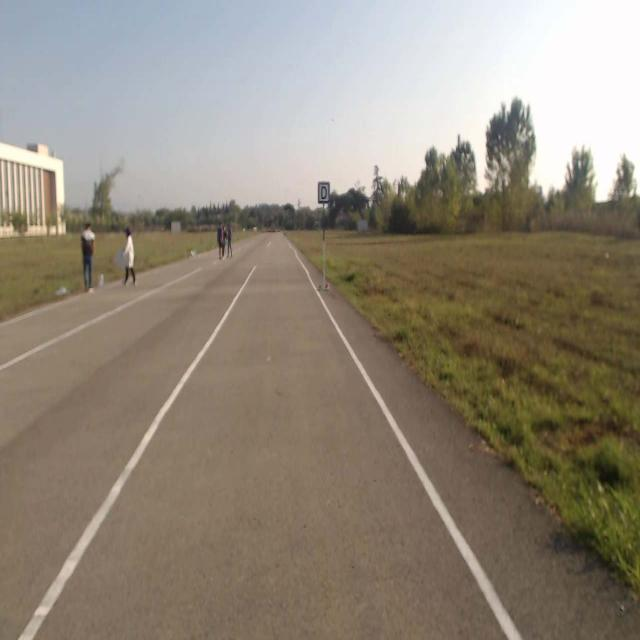durak: (317, 181, 328, 204)
